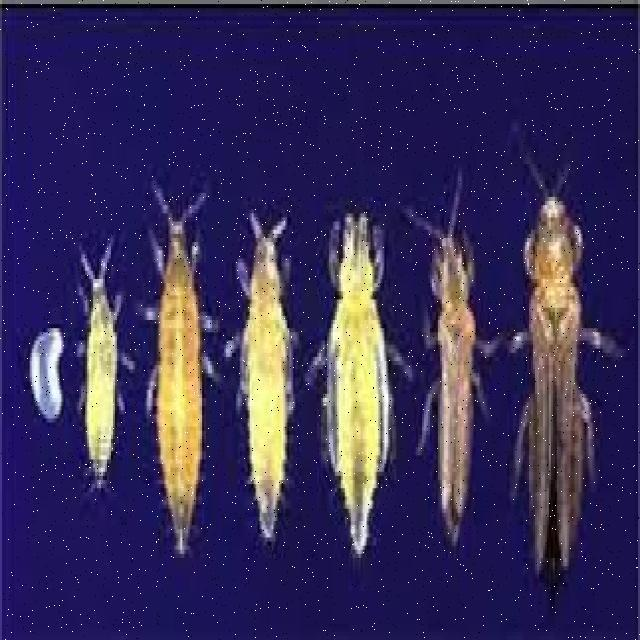Thrips: (130, 130, 225, 602), (512, 132, 605, 608), (316, 137, 407, 609), (211, 165, 308, 576), (417, 157, 485, 568), (64, 181, 136, 473), (11, 291, 79, 455)
